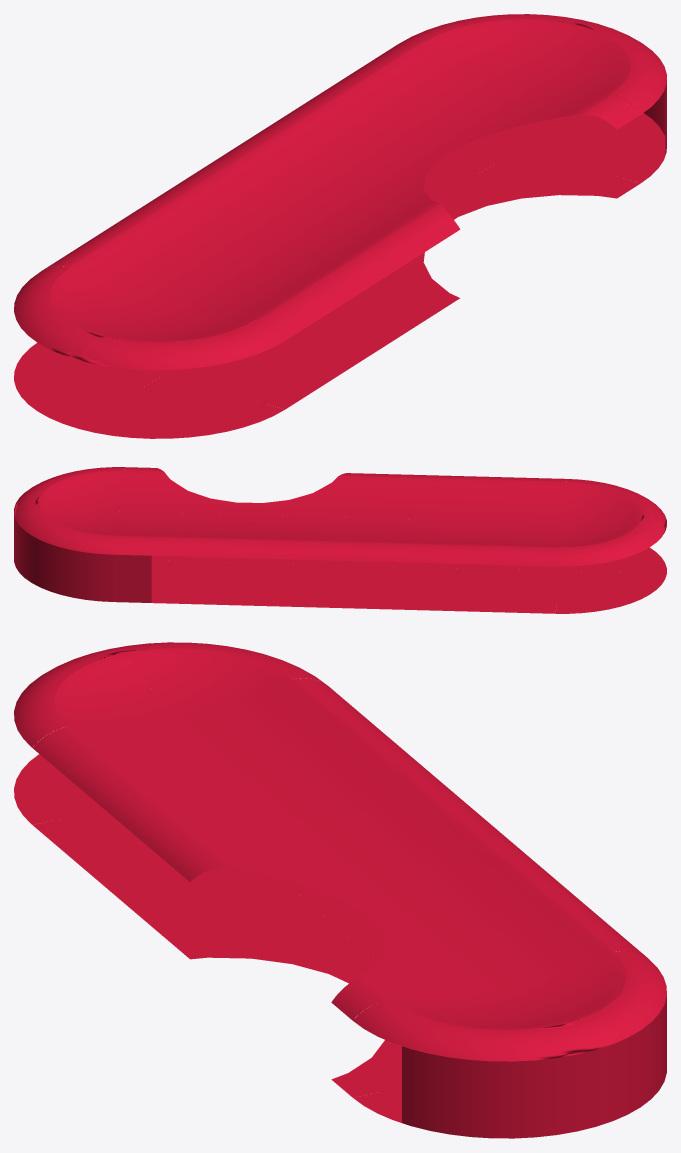
File: original-1.obj
The picture shows the model from 3 angles, top to bottom: view 1: azimuth 30°, elevation 25°; view 2: azimuth 150°, elevation 25°; view 3: azimuth 270°, elevation 25°; orthographic projection. The views are drawn at different scales.
Visible parts, largest first — view 1: Group2/mesh1/mesh1-geometry#mesh1-geometry; view 2: Group2/mesh1/mesh1-geometry#mesh1-geometry; view 3: Group2/mesh1/mesh1-geometry#mesh1-geometry.
Boxes of the visible parts, x1,y1,x2,y2 form: Group2/mesh1/mesh1-geometry#mesh1-geometry: (14,14,666,438); Group2/mesh1/mesh1-geometry#mesh1-geometry: (14,467,666,613); Group2/mesh1/mesh1-geometry#mesh1-geometry: (14,642,666,1138).
Bounding box in the file's own units: 1.51 × 0.1547 × 1.
